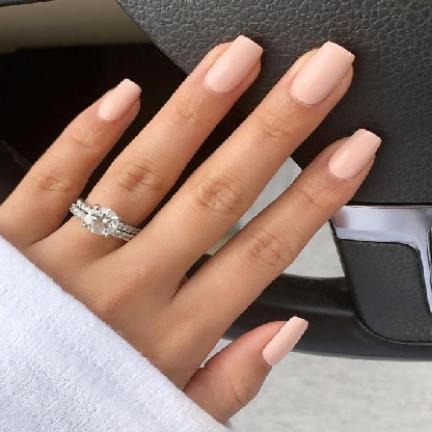Nail: (290, 41, 354, 105), (204, 35, 262, 93), (328, 129, 381, 179), (262, 316, 308, 366), (98, 79, 141, 121)
